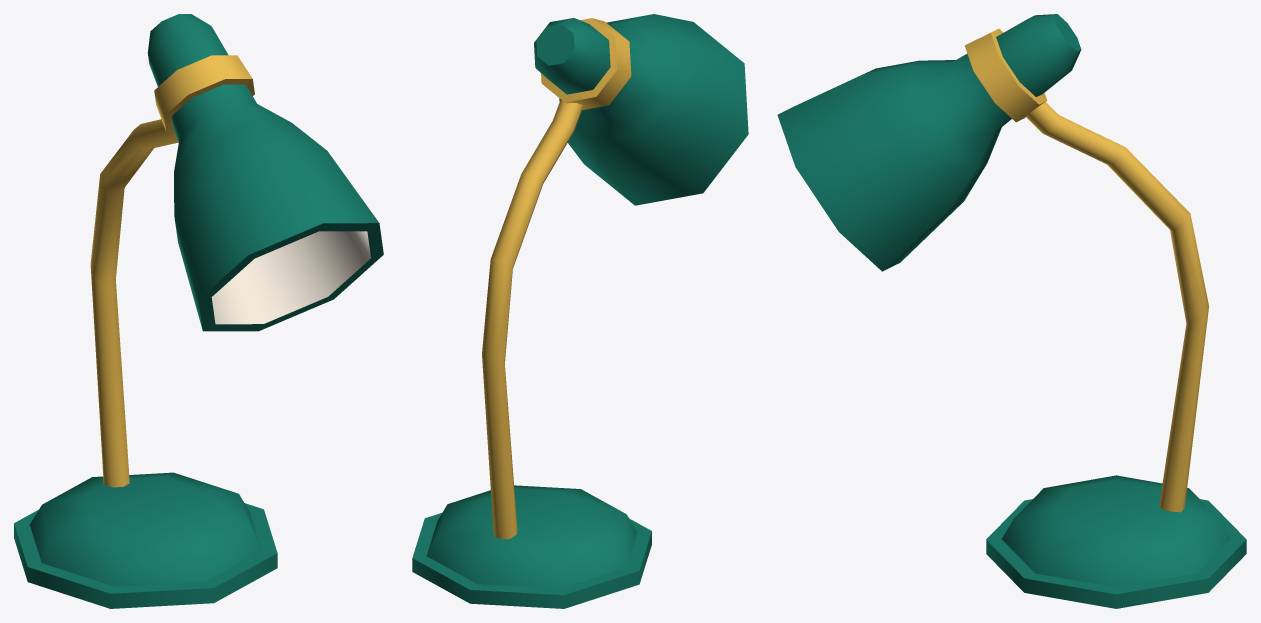
The model's file is lamp_b.glb.
3 renders of one model, left to right at view 1: azimuth 30°, elevation 25°; view 2: azimuth 150°, elevation 25°; view 3: azimuth 270°, elevation 25°, orthographic. The views are drawn at different scales.
Visible parts, largest first — view 1: body; view 2: body; view 3: body.
Boxes of the visible parts, bbox=[...] form: body: bbox=[14, 14, 383, 608]; body: bbox=[412, 14, 748, 608]; body: bbox=[777, 14, 1246, 608].
Size of the model in its own units: 0.222 by 0.5059 by 0.4.
